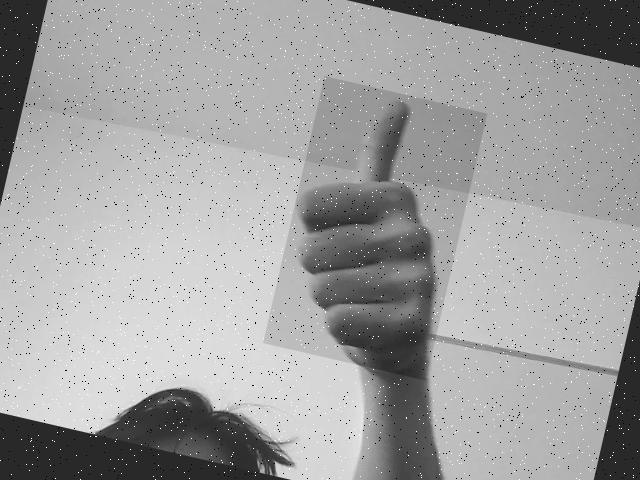good: (295, 96, 448, 372)
